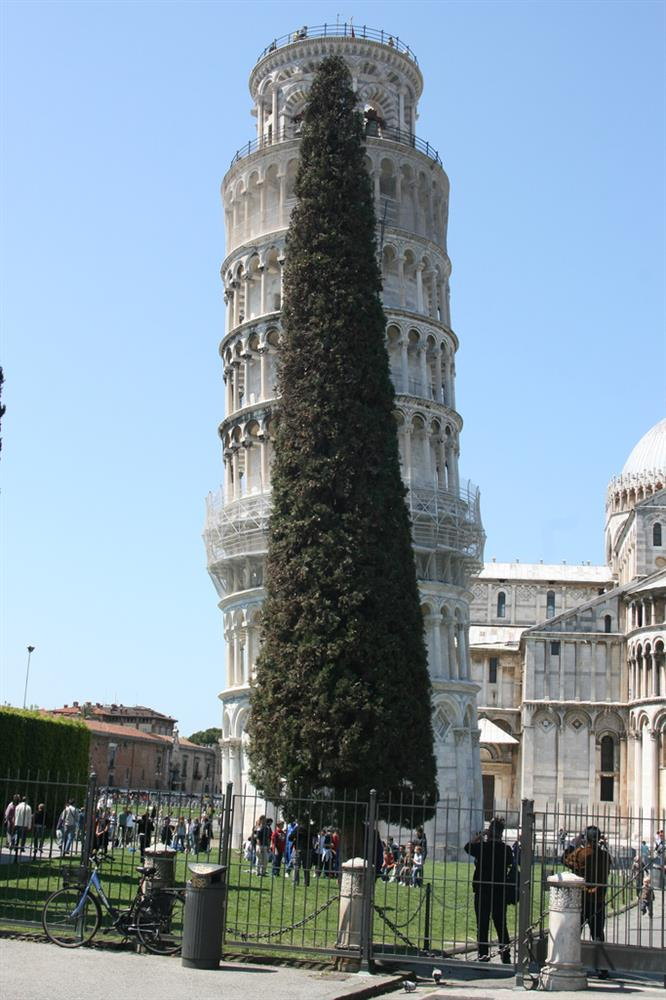Torre_di_Pisa: (212, 19, 485, 849)
